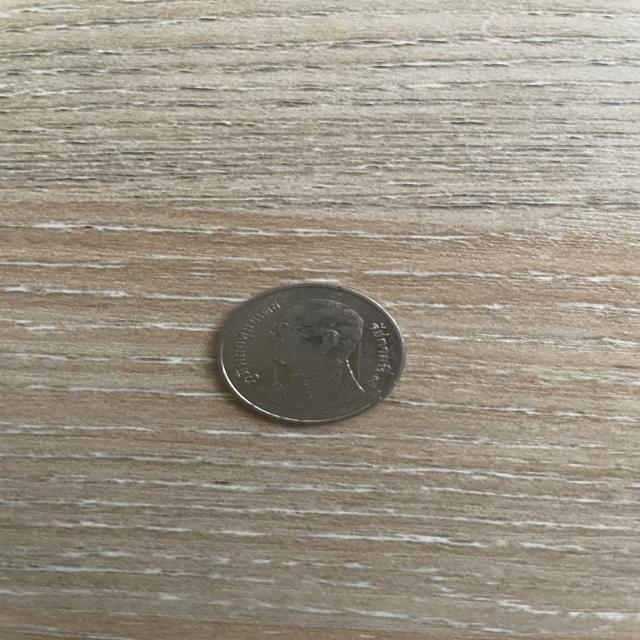1 Bath: (184, 271, 446, 441)
